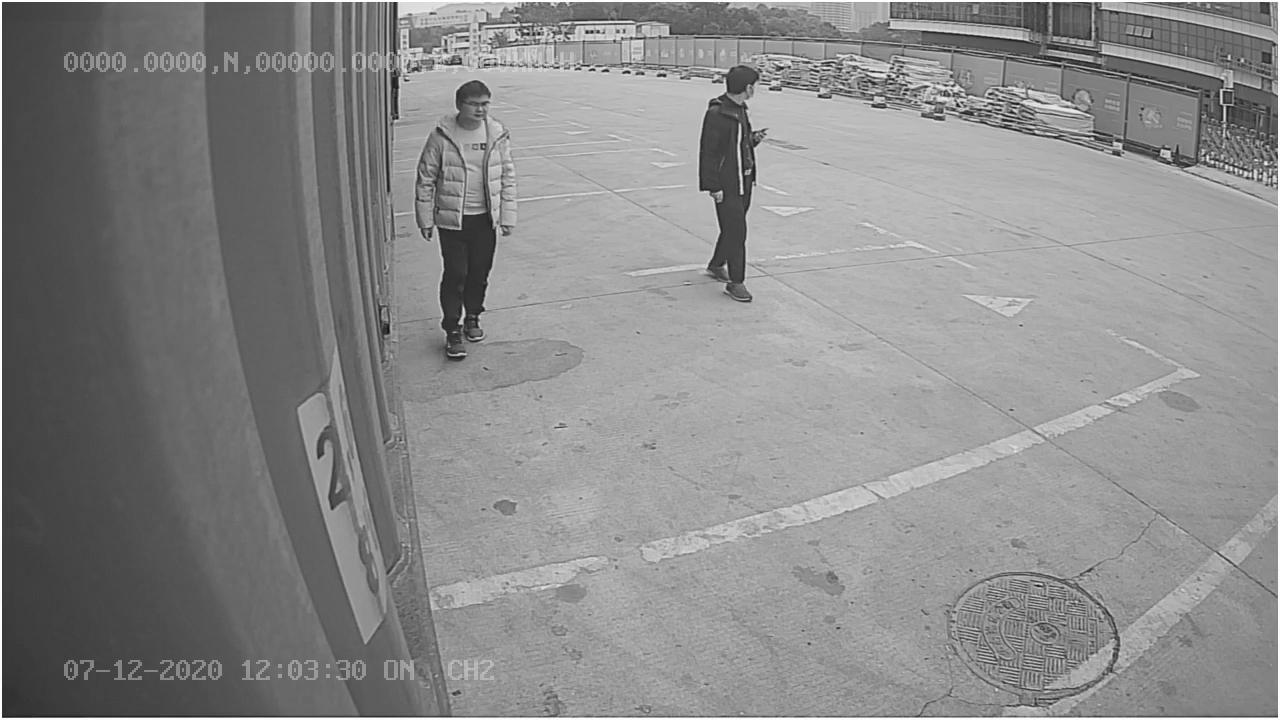person: (410, 78, 522, 365), (691, 63, 777, 303)
